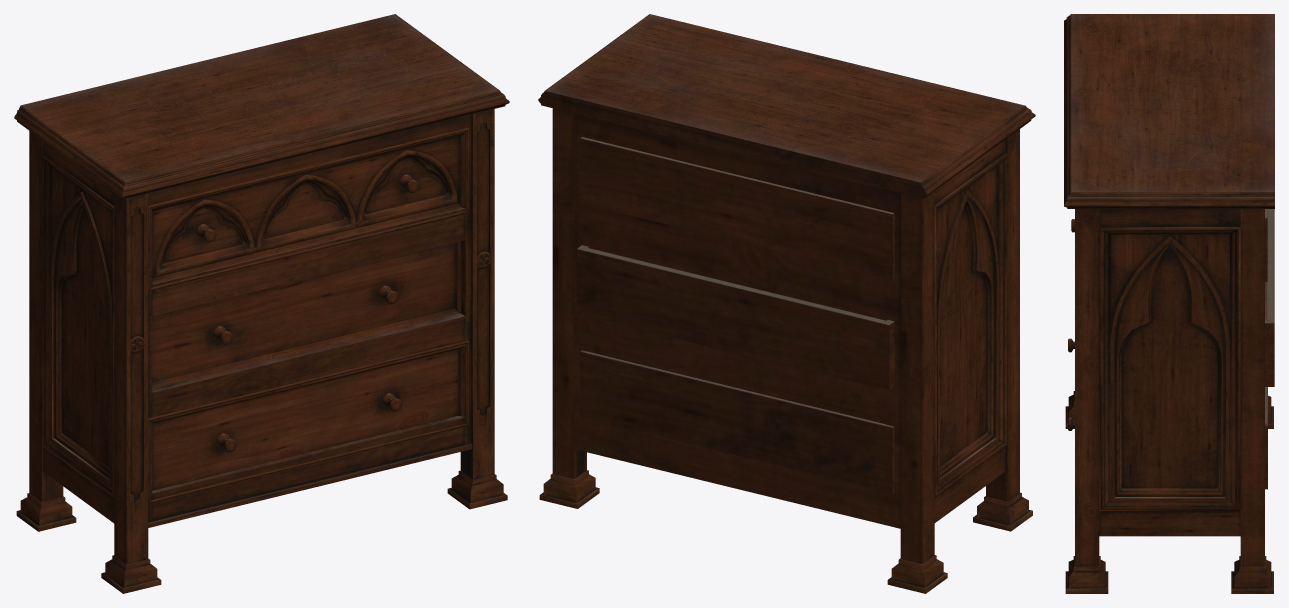
File: gothic_commode_01_4k-v1.glb
The picture shows the model from 3 angles, left to right: view 1: azimuth 30°, elevation 25°; view 2: azimuth 150°, elevation 25°; view 3: azimuth 270°, elevation 25°; orthographic projection. The views are drawn at different scales.
Parts seen in each view (by area): view 1: GothicCommode_01, GothicCommode_01_door01, GothicCommode_01_door03, GothicCommode_01_door02; view 2: GothicCommode_01, GothicCommode_01_door02, GothicCommode_01_door03, GothicCommode_01_door01; view 3: GothicCommode_01, GothicCommode_01_door02, GothicCommode_01_door03.
Boxes of the visible parts, x1,y1,x2,y2 form: GothicCommode_01: [14, 14, 509, 593]; GothicCommode_01_door01: [148, 127, 469, 291]; GothicCommode_01_door03: [148, 340, 469, 503]; GothicCommode_01_door02: [152, 241, 461, 388]; GothicCommode_01: [538, 14, 1035, 593]; GothicCommode_01_door02: [576, 245, 894, 390]; GothicCommode_01_door03: [580, 350, 894, 493]; GothicCommode_01_door01: [580, 137, 894, 279]; GothicCommode_01: [1064, 14, 1274, 593]; GothicCommode_01_door02: [1265, 209, 1274, 386]; GothicCommode_01_door03: [1068, 338, 1267, 489].
Bounding box in the file's own units: 1.2 × 1.21 × 0.5807.
1 material, 1 textured.
